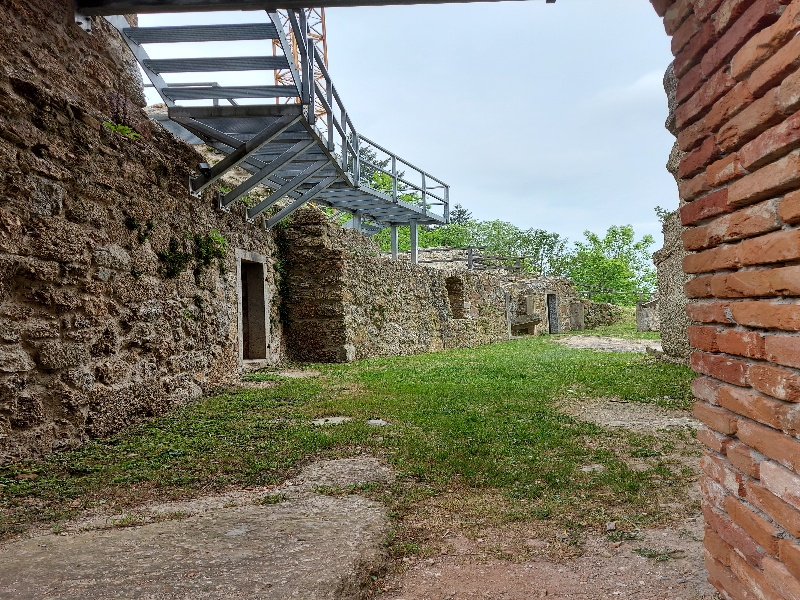door1: (229, 240, 279, 377)
door2: (539, 286, 562, 338)
